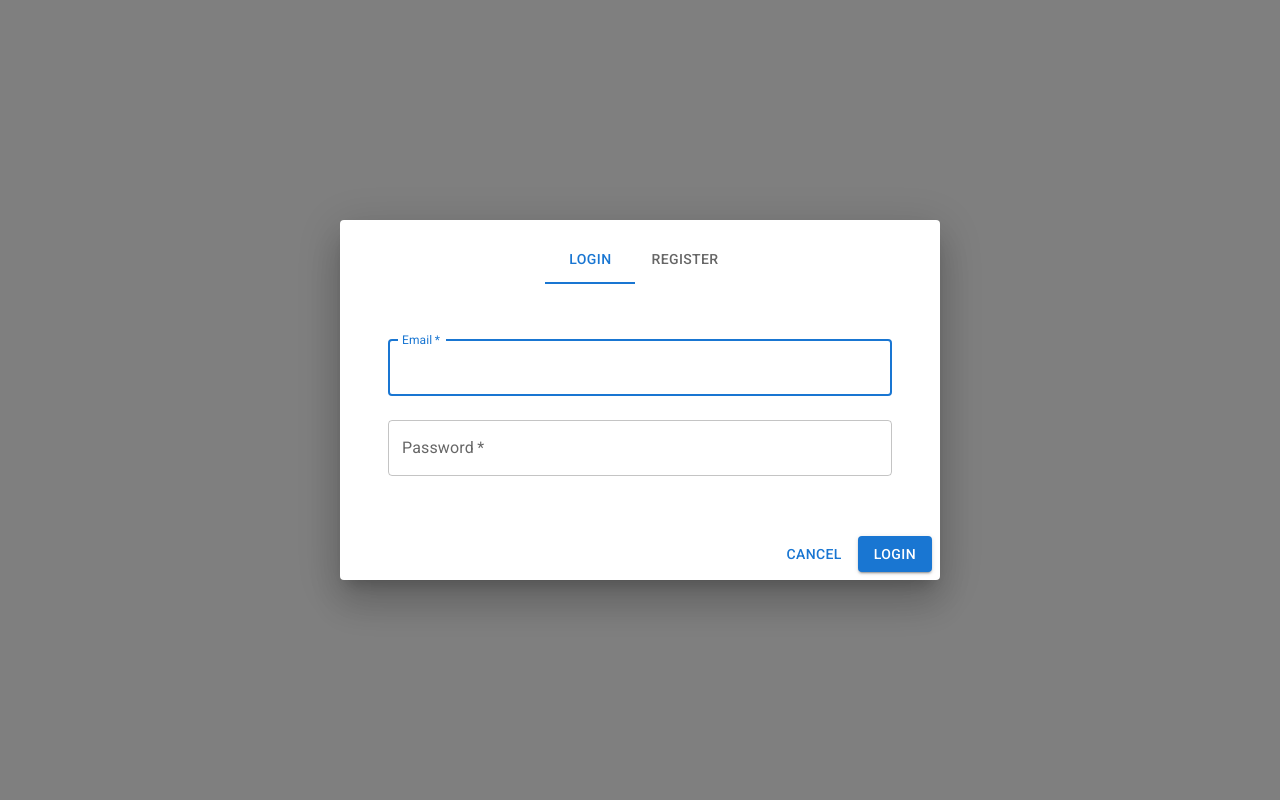
Test: AuthDialog › should validate required fields on login
The width and height of the screenshot is (1280, 800).
Click the button "Login": (895, 554) [858, 536, 932, 572]
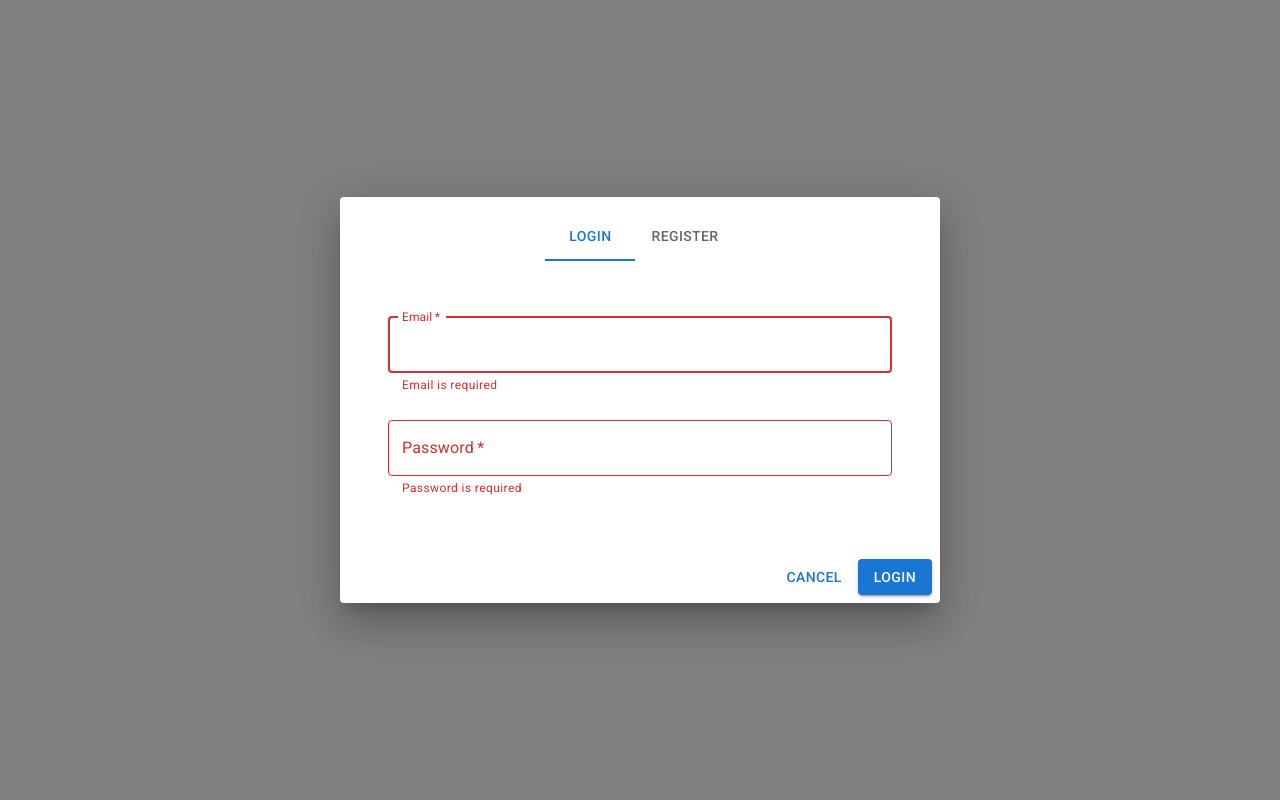
Expected: the text "Email is required" is shown, [402, 378, 497, 392]
Expected: the text "Password is required" is shown, [402, 481, 522, 495]
